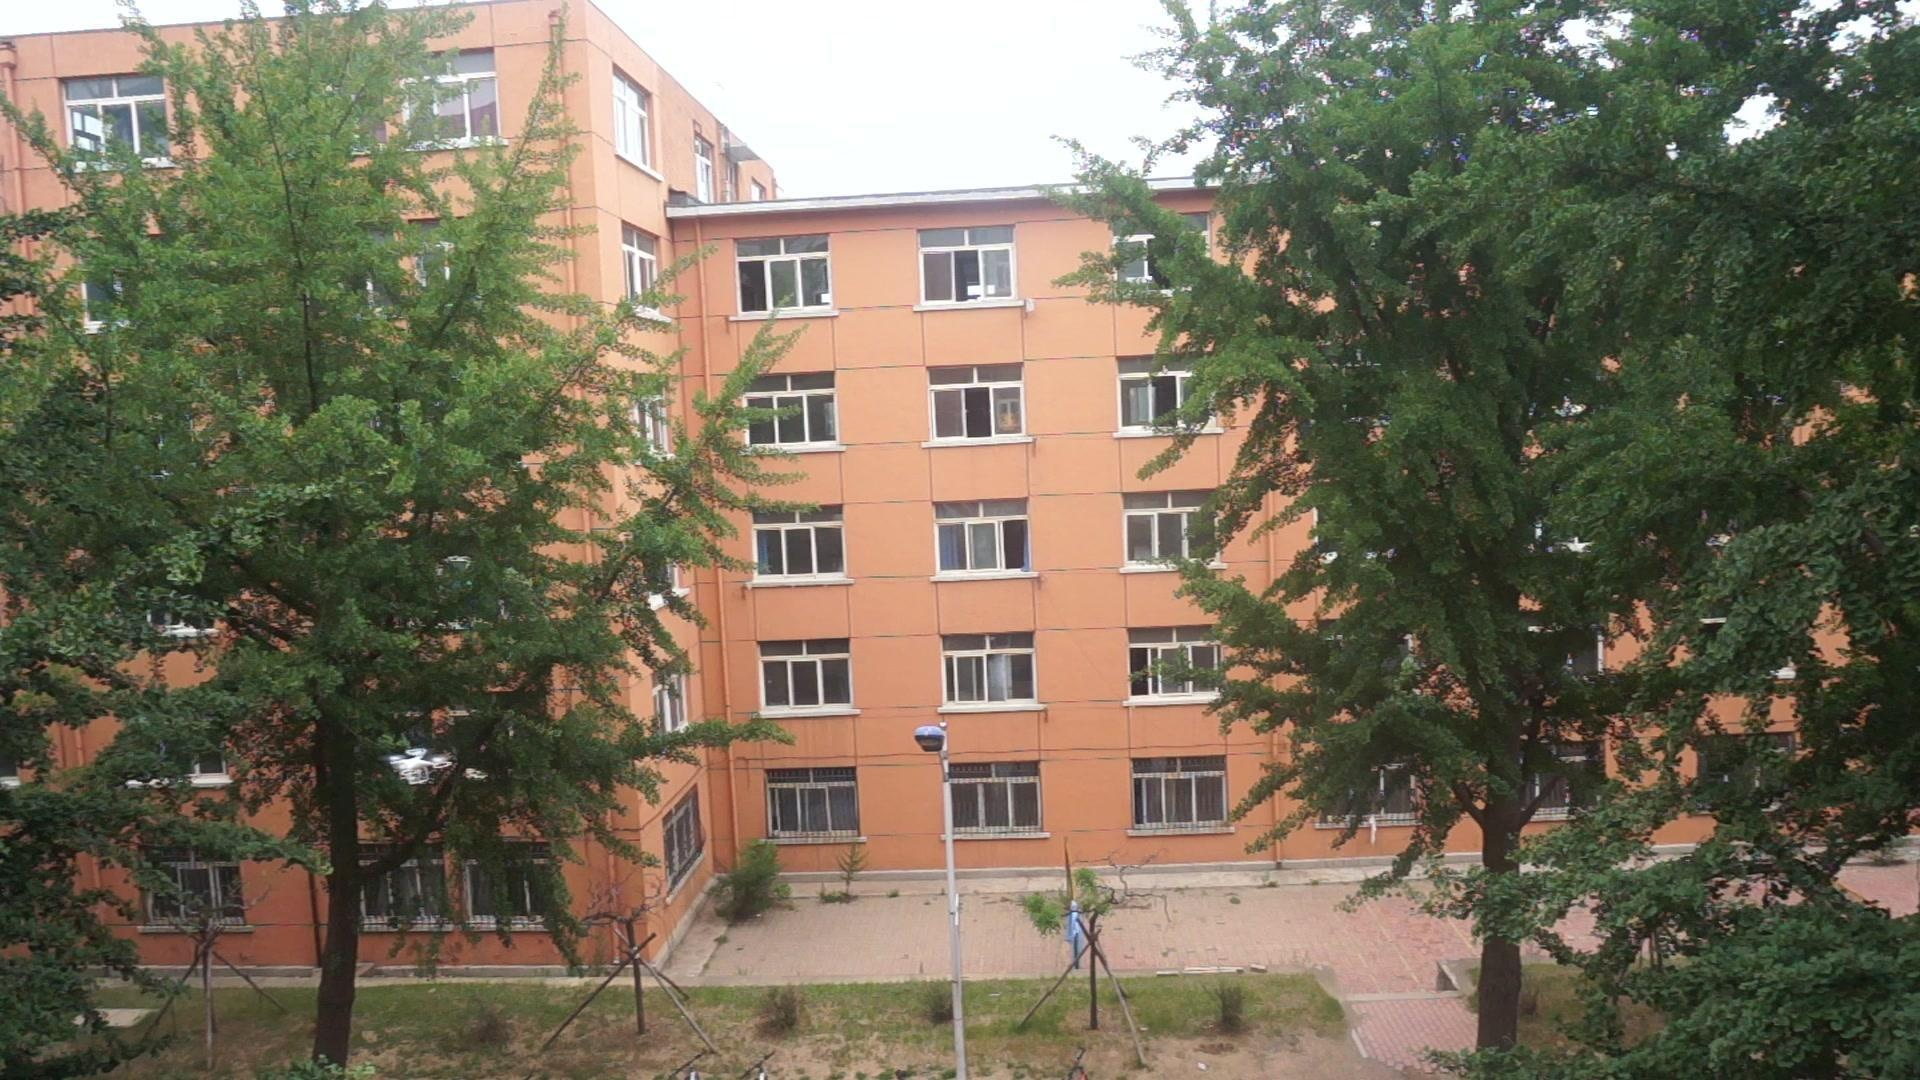UAV: (380, 748, 454, 786)
